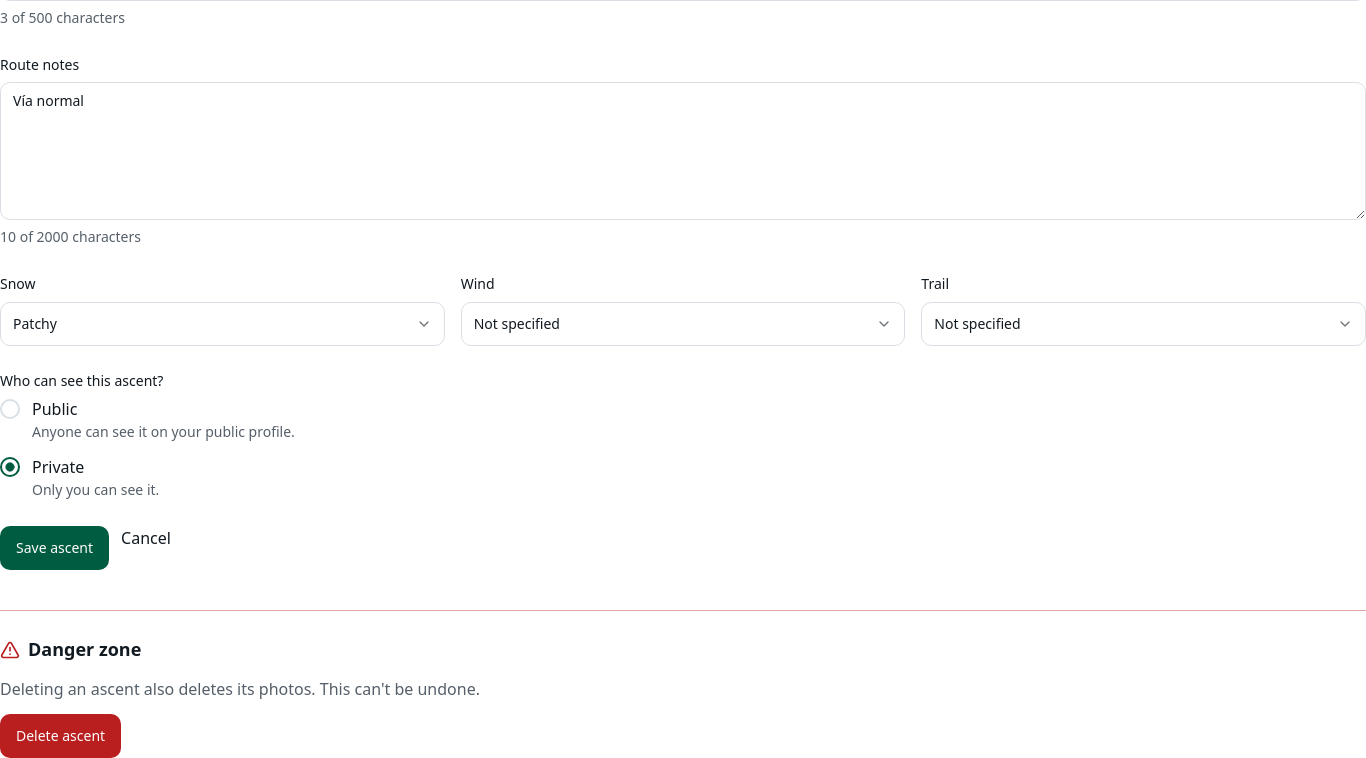
Scenario: EditAscentForm › editAscentForm_dangerZone_enumeratesWhatIsLost
This screenshot has width=1366, height=758.
(page scrolled)
Click the button "Delete ascent": (61, 736) [0, 714, 121, 757]
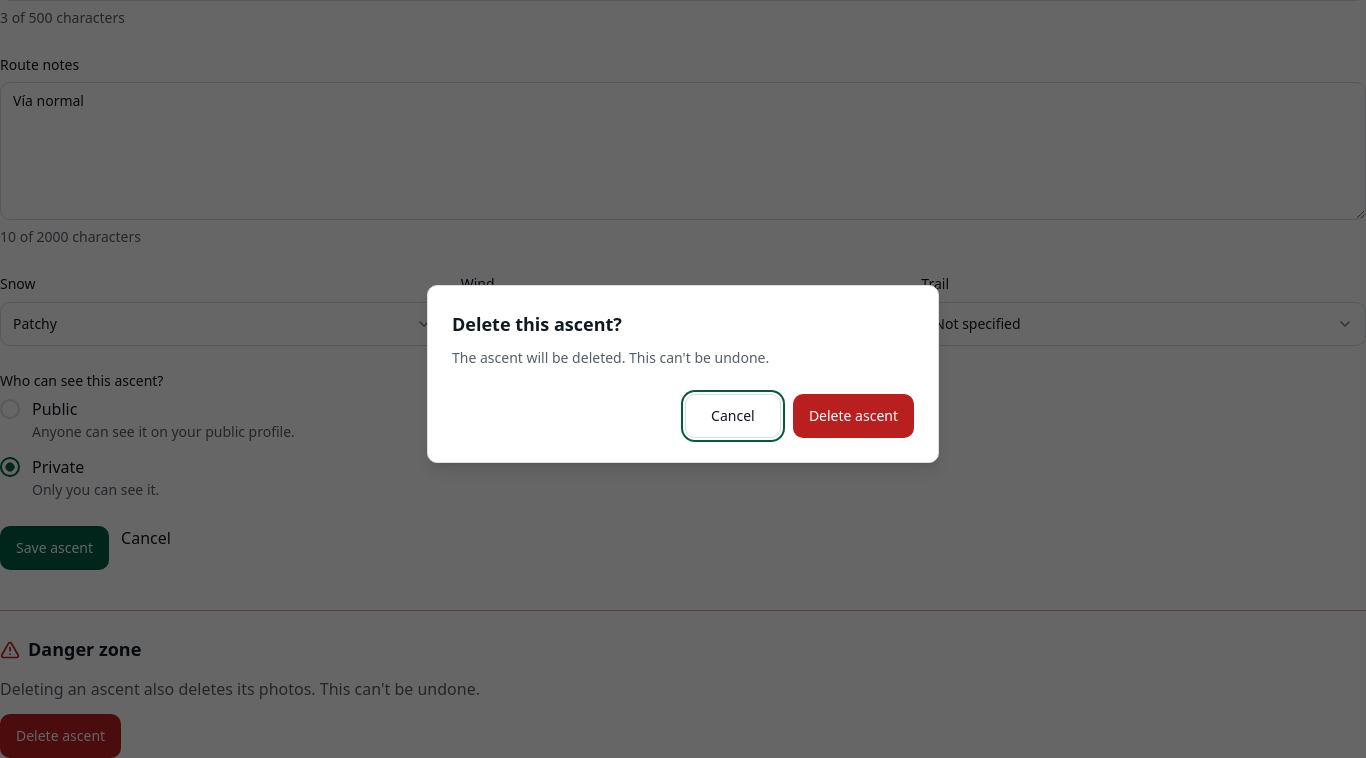
Result: the dialog shows "The ascent will be deleted." at [452, 348, 769, 367]
